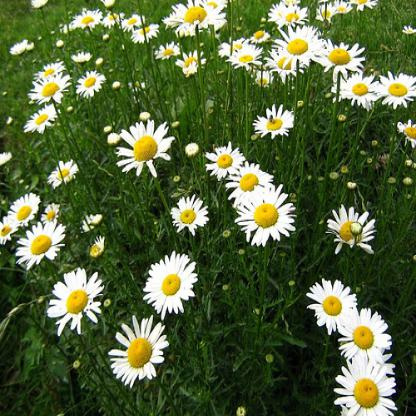ASTER: (5, 8, 407, 410)
